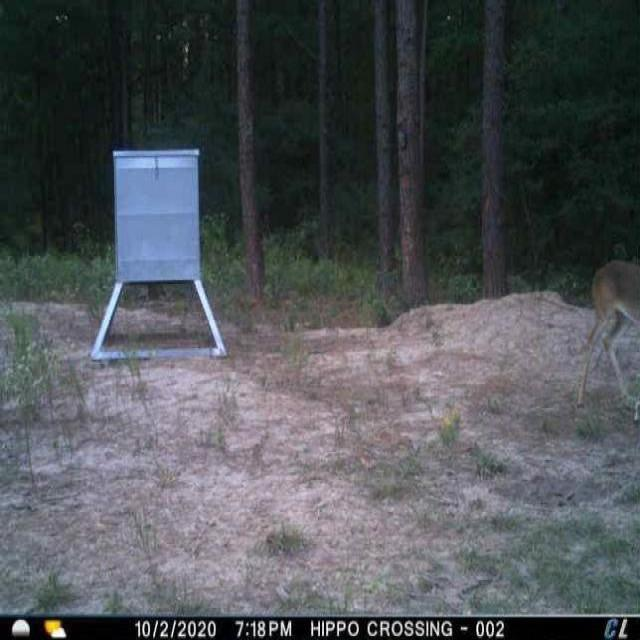deer: (574, 253, 639, 416)
